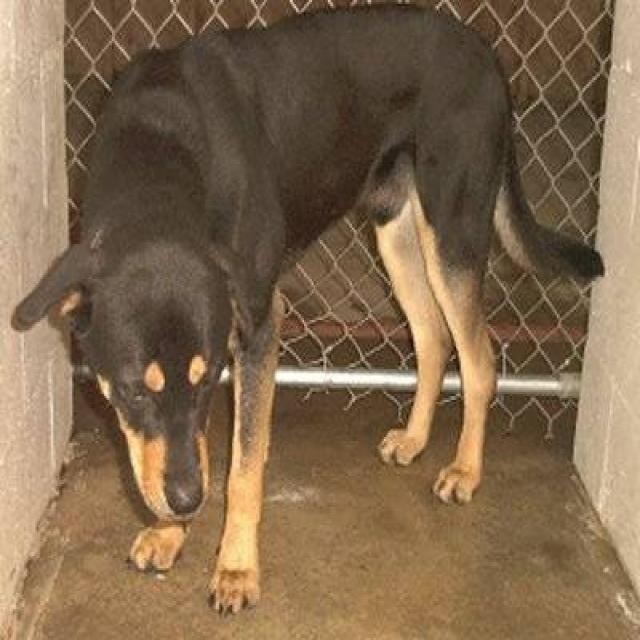dog: (9, 0, 604, 617)
